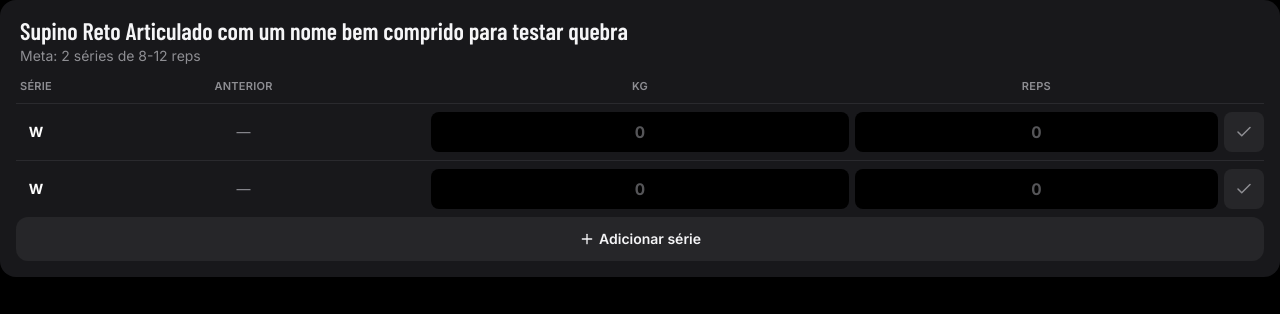
Test: ExerciseSessionCard › mostra erro se salvar falhar e mantém os valores
Step 1. Type "40" into the field named "Peso em kg" → x=640, y=132, box [431,112,849,152]
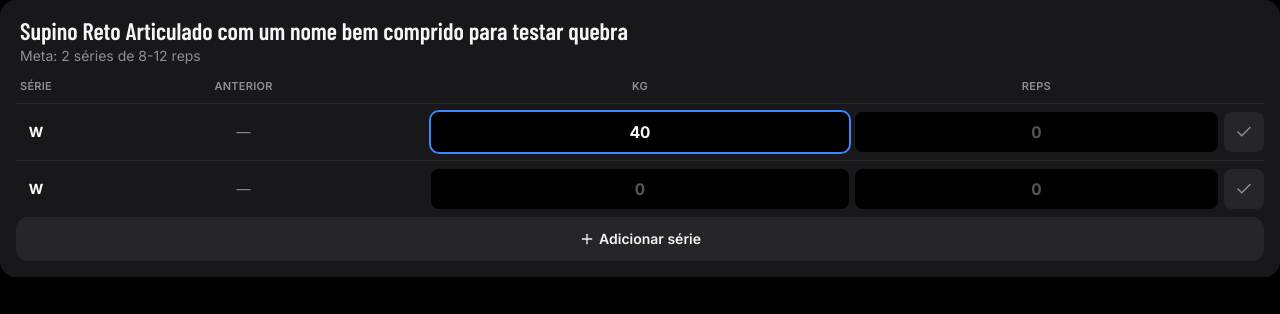
Step 2. Type "8" into the field named "Repetições" → x=1036, y=132, box [855,112,1218,152]
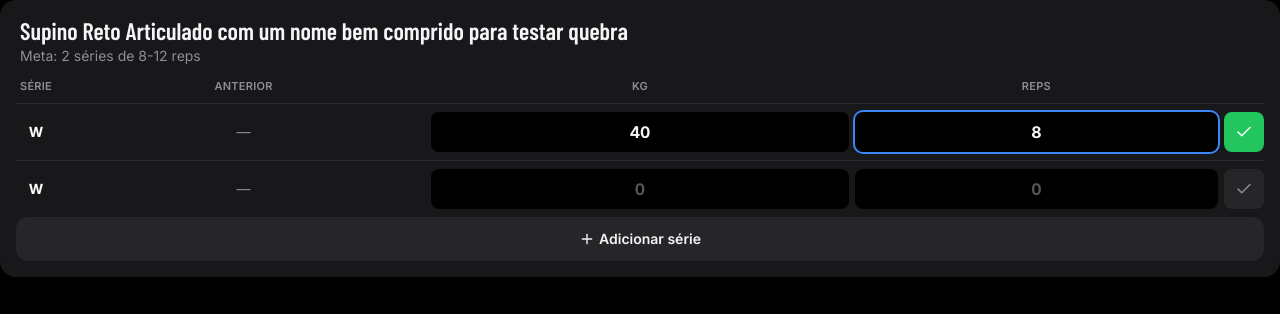
Step 3. Click the 1st button named "Confirmar série" → x=1244, y=132, box [1224,112,1264,152]
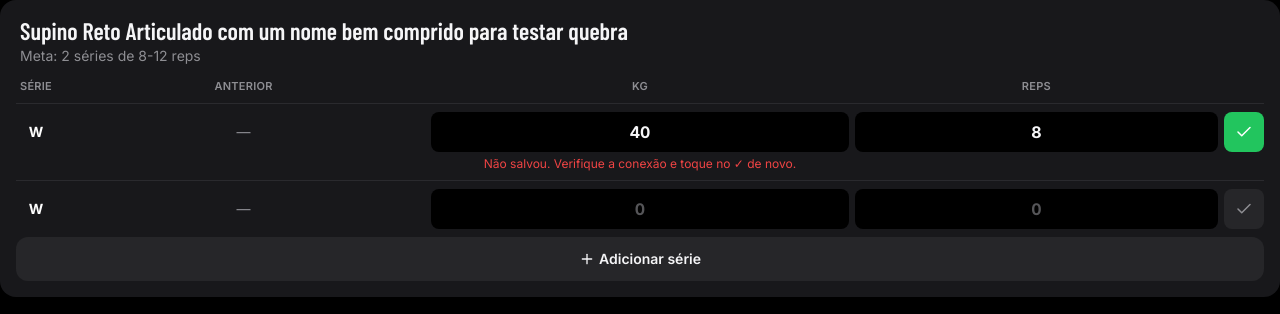
expect the message shows "Não salvou": met, box [484,156,796,170]
